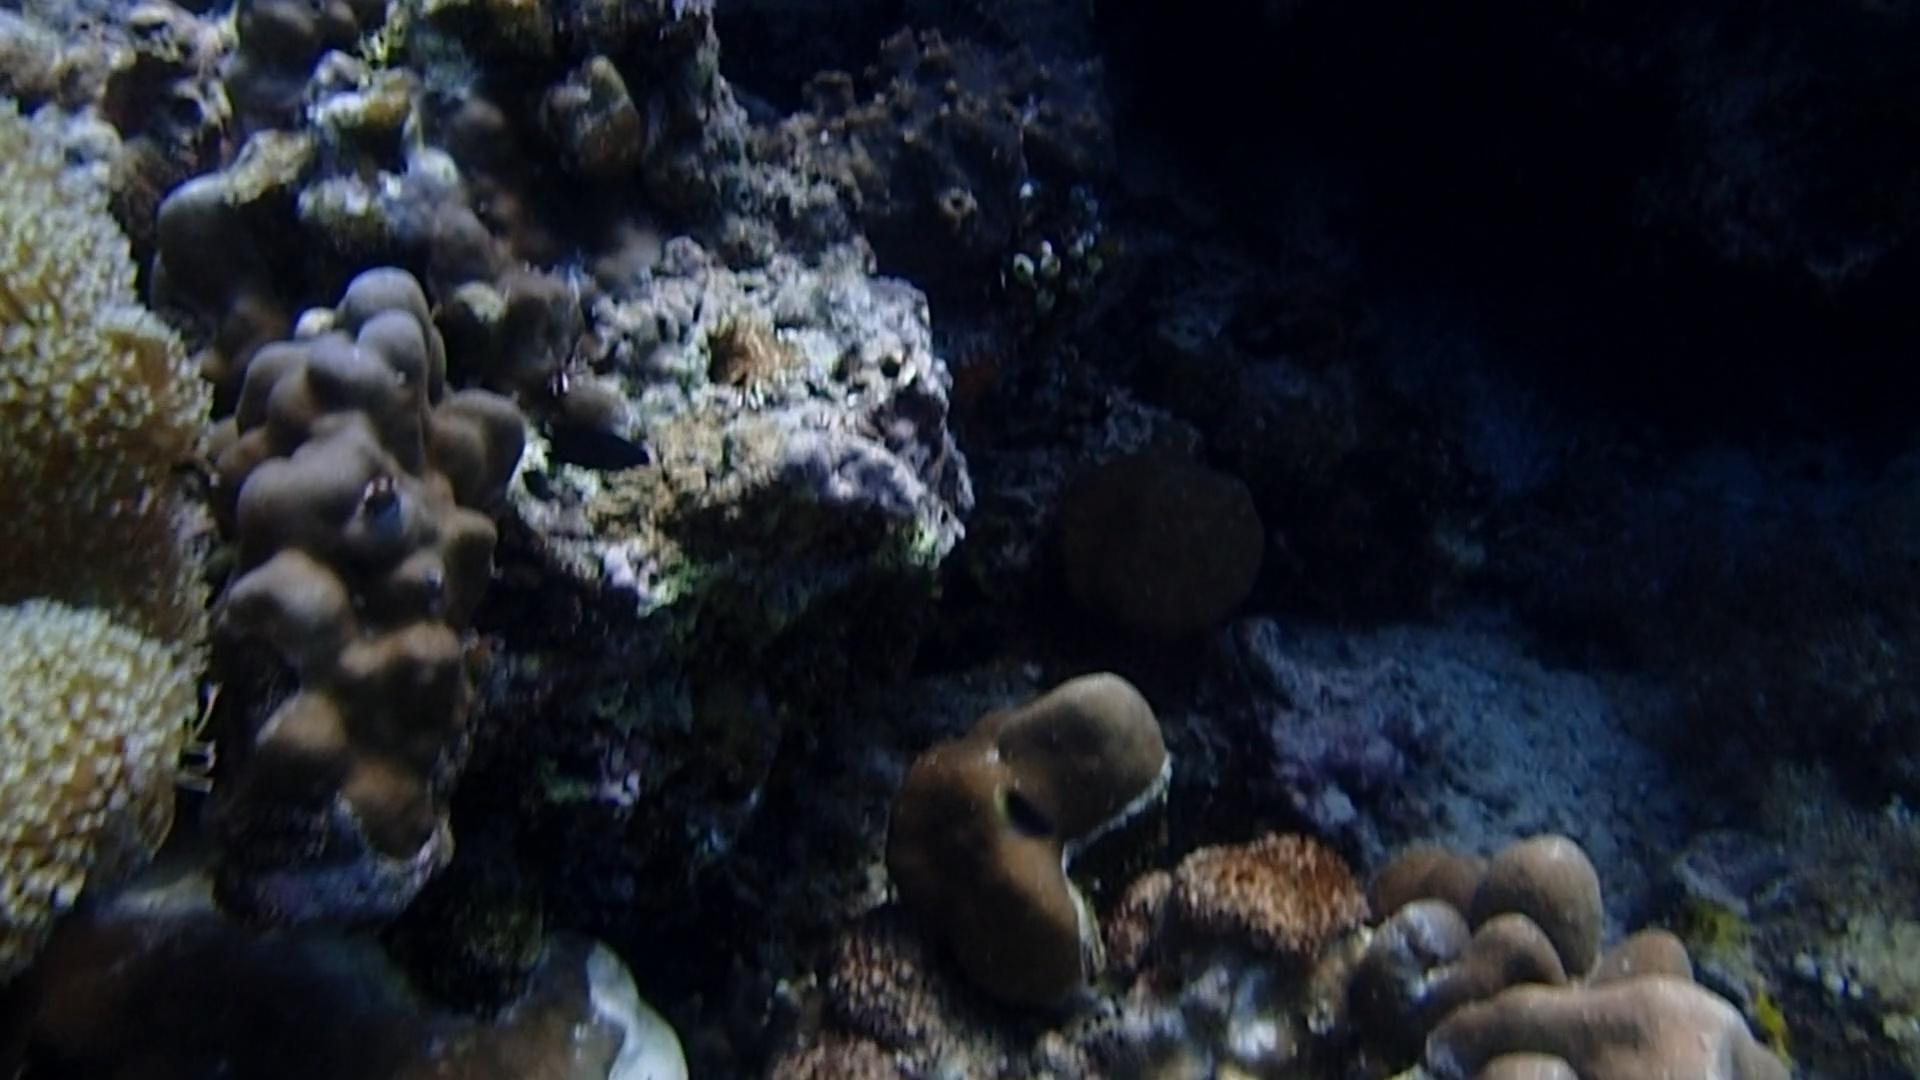Dark Fish: (538, 414, 657, 487)
Yellow Tail: (981, 771, 1064, 851)
